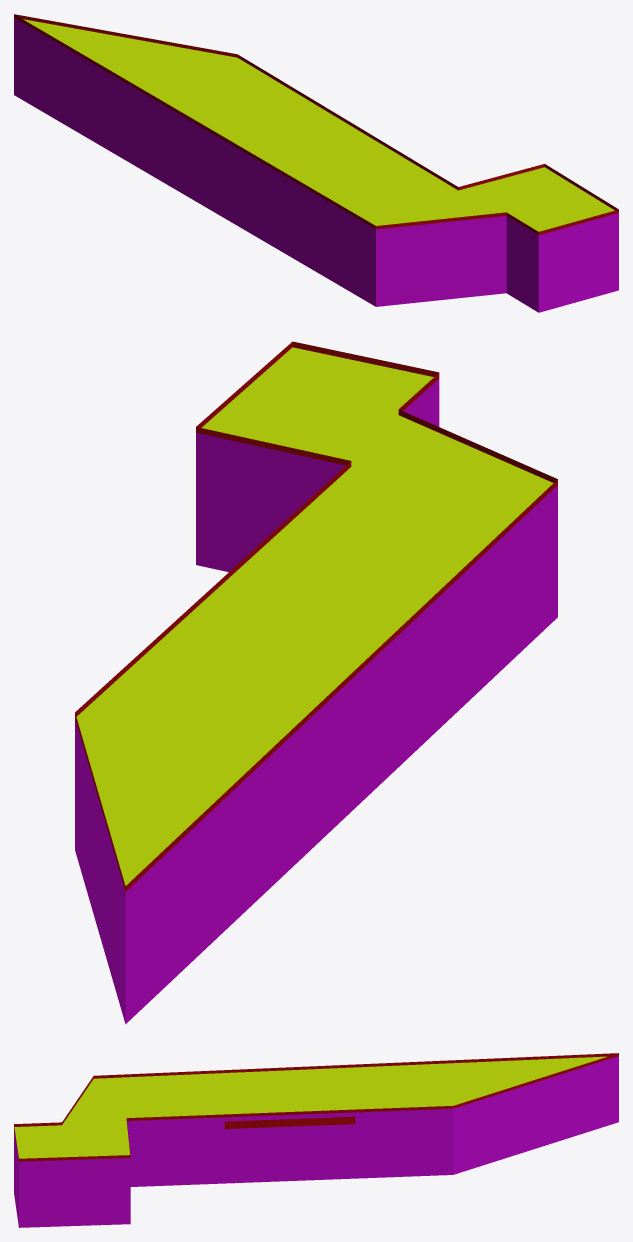
The model's file is rmc_10.glb.
The picture shows the model from 3 angles, top to bottom: view 1: azimuth 30°, elevation 25°; view 2: azimuth 150°, elevation 25°; view 3: azimuth 270°, elevation 25°; orthographic projection. The views are drawn at different scales.
Parts seen in each view (by area): view 1: rmc_10; view 2: rmc_10; view 3: rmc_10.
Boxes of the visible parts, bbox=[...] form: rmc_10: bbox=[14, 14, 618, 312]; rmc_10: bbox=[75, 341, 557, 1024]; rmc_10: bbox=[14, 1053, 618, 1227].
Size of the model in its own units: 27.19 by 8.29 by 65.81.
